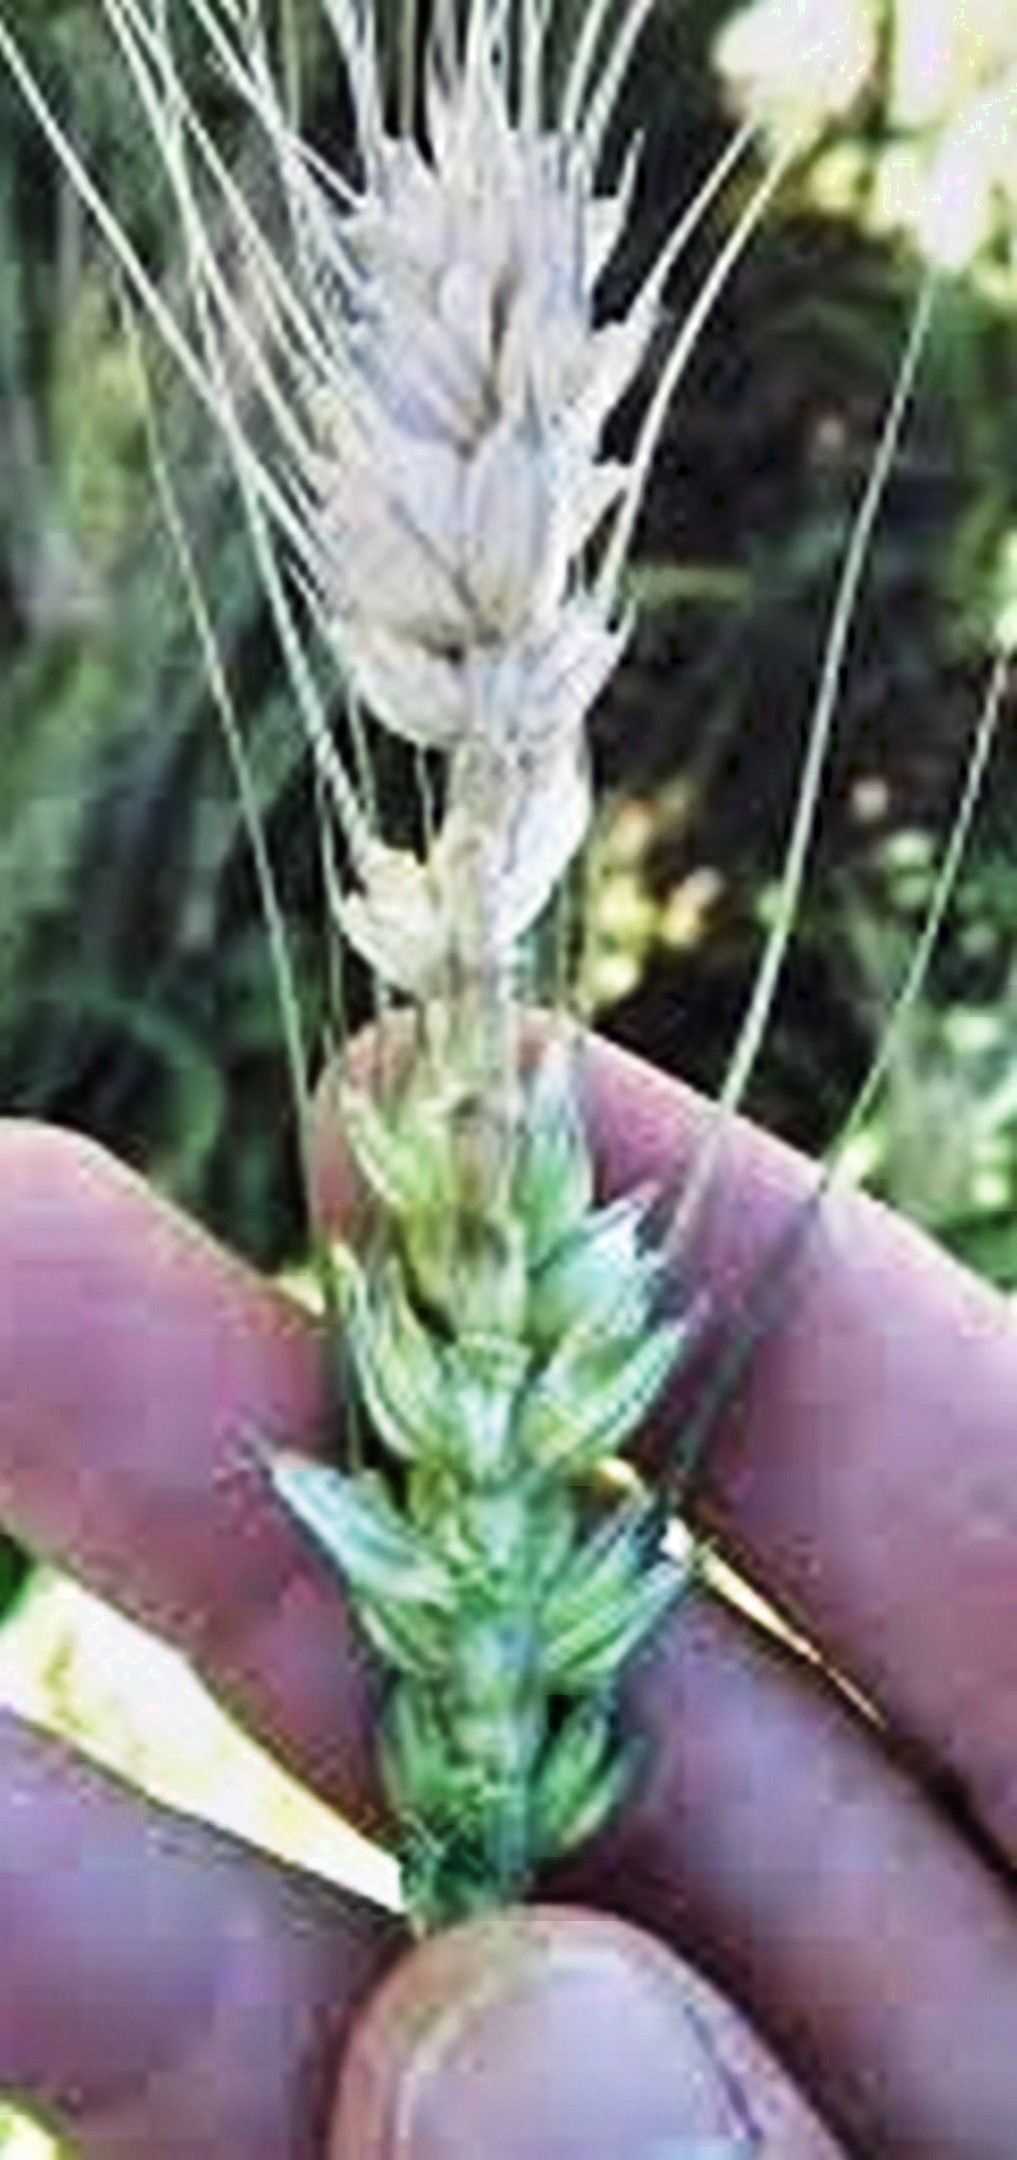Wheat scab: (192, 96, 757, 1861)
